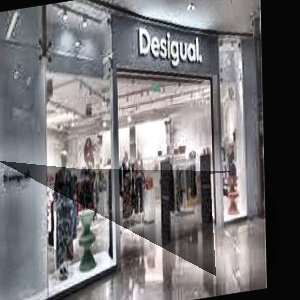desigual: (114, 13, 262, 70)
